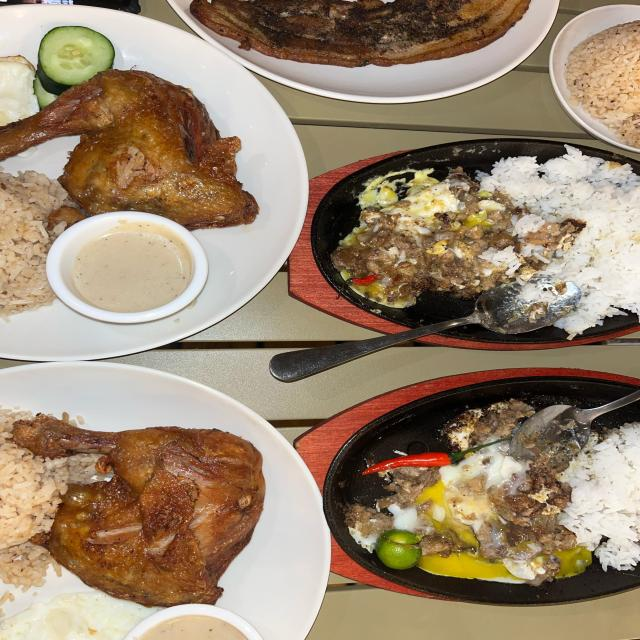Chicken -Chicken Inasal-: (10, 66, 286, 239), (36, 417, 255, 608), (527, 158, 640, 328), (0, 171, 65, 305), (576, 24, 640, 122), (582, 445, 640, 550), (0, 433, 46, 544)
